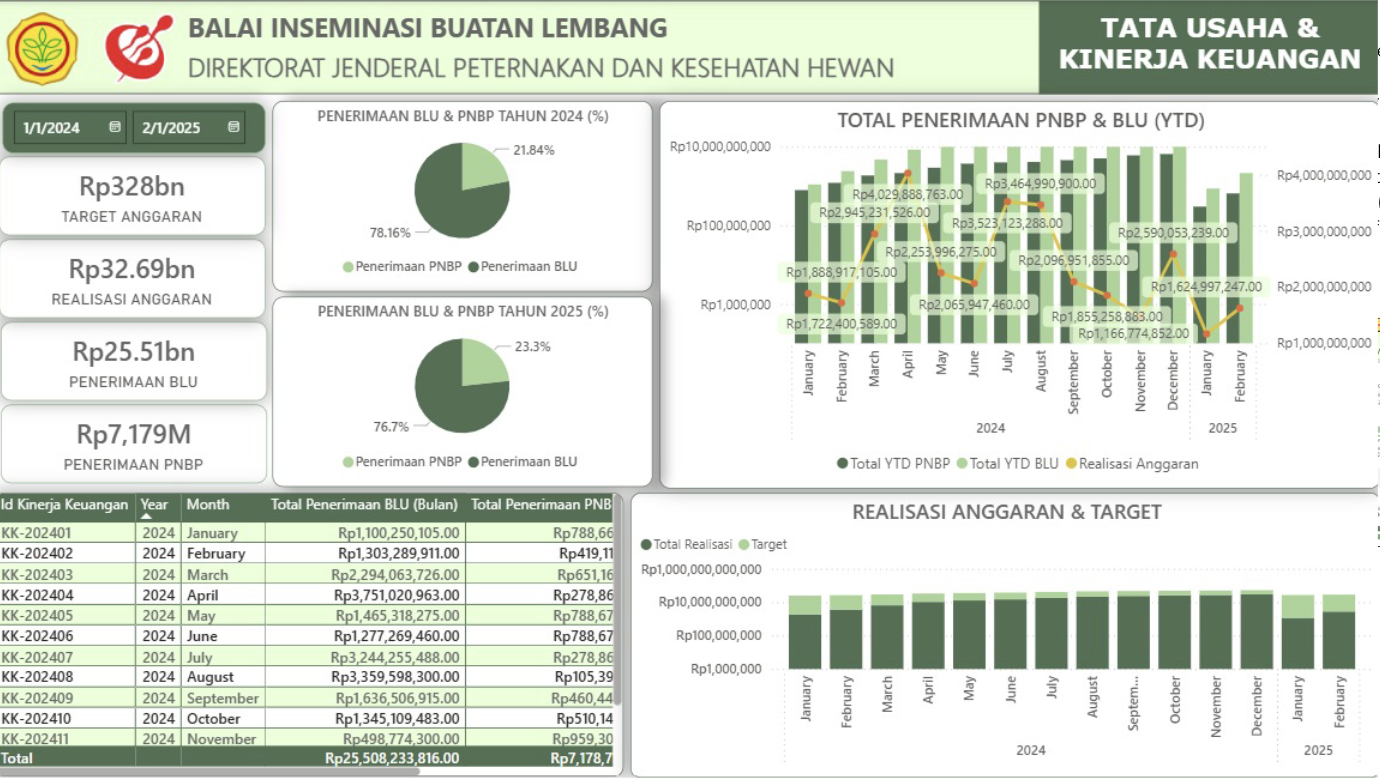

The dashboard page shown, as its layout file describes it:
{"tool":"powerbi","page":{"name":"Dashboard Tata Usaha","canvas":[1280,720],"ordinal":2},"visuals":[{"type":"shape","box":[1.7,0,1278.3,86.7],"z":0},{"type":"image","box":[86.1,0,92.8,86.1],"z":1000},{"type":"image","box":[0,0,86.1,86.1],"z":2000},{"type":"textbox","box":[961.7,0,315,86.7],"z":3000},{"type":"card","fields":{"Values":["Sum(fakta_kinerja_keuangan.Penerimaan PNBP)"]},"box":[6.6,372.7,245.2,72.9],"z":4000},{"type":"card","fields":{"Values":["Sum(fakta_kinerja_keuangan.Penerimaan BLU)"]},"box":[6.6,296.5,245.2,72.9],"z":5000},{"type":"card","fields":{"Values":["Sum(fakta_kinerja_keuangan.Realisasi Anggaran)"]},"box":[5,220.3,245.2,72.9],"z":6000},{"type":"tableEx","fields":{"Values":["fakta_kinerja_keuangan.Id Kinerja Keuangan","fakta_kinerja_keuangan.Tahun.Variation.Date Hierarchy.Year","fakta_kinerja_keuangan.Tahun.Variation.Date Hierarchy.Month","Sum(fakta_kinerja_keuangan.Penerimaan BLU)","Sum(fakta_kinerja_keuangan.Penerimaan PNBP)","Sum(fakta_kinerja_keuangan.Realisasi Anggaran)"]},"box":[0,453.5,580.2,262.7],"z":7000},{"type":"pieChart","title":"PENERIMAAN BLU &  PNBP TAHUN 2024 (%)","fields":{"Y":["Sum(fakta_kinerja_keuangan.Penerimaan PNBP)","Sum(fakta_kinerja_keuangan.Penerimaan BLU)"]},"box":[256,92,350,176],"z":8000},{"type":"lineStackedColumnComboChart","title":"REALISASI ANGGARAN & TARGET ","fields":{"Category":["fakta_kinerja_keuangan.Tahun.Variation.Date Hierarchy.Year","fakta_kinerja_keuangan.Tahun.Variation.Date Hierarchy.Month"],"Y":["fakta_kinerja_keuangan.Total Realisasi","Sum(fakta_kinerja_keuangan.Target)"]},"box":[586,454,692,264],"z":9000},{"type":"lineClusteredColumnComboChart","title":"TOTAL PENERIMAAN PNBP & BLU (YTD)","fields":{"Category":["fakta_kinerja_keuangan.Tahun.Variation.Date Hierarchy.Year","fakta_kinerja_keuangan.Tahun.Variation.Date Hierarchy.Month"],"Y":["fakta_kinerja_keuangan.Total YTD PNBP","fakta_kinerja_keuangan.Total YTD BLU"],"Y2":["fakta_kinerja_keuangan.Sum of Realisasi Anggaran running total in Tahun"]},"box":[612.3,92.6,665.2,357.2],"z":10000},{"type":"textbox","box":[179.5,7.6,480,35.9],"z":11000},{"type":"textbox","box":[178.9,44.7,816.6,43.1],"z":12000},{"type":"card","fields":{"Values":["Sum(fakta_kinerja_keuangan.Target)"]},"box":[5,144.1,245.2,72.9],"z":13000},{"type":"slicer","fields":{"Values":["fakta_kinerja_keuangan.Tahun"]},"box":[8.3,94.4,241.8,46.4],"z":14000},{"type":"pieChart","title":"PENERIMAAN BLU &  PNBP TAHUN 2025 (%)","fields":{"Y":["Sum(fakta_kinerja_keuangan.Penerimaan PNBP)","Sum(fakta_kinerja_keuangan.Penerimaan BLU)"]},"box":[256.2,272.5,350,175],"z":15000}]}

Visuals, with their boxes in screenshot pixels (x1, y1, x2, y2), scaled from the page's 1280x720 canvas onto the 1380x780 screenshot:
shape: bbox=(2, 0, 1379, 94)
image: bbox=(93, 0, 193, 93)
image: bbox=(0, 0, 93, 93)
textbox: bbox=(1037, 0, 1376, 94)
card - Sum(fakta_kinerja_keuangan.Penerimaan PNBP): bbox=(7, 404, 271, 483)
card - Sum(fakta_kinerja_keuangan.Penerimaan BLU): bbox=(7, 321, 271, 400)
card - Sum(fakta_kinerja_keuangan.Realisasi Anggaran): bbox=(5, 239, 270, 318)
tableEx - fakta_kinerja_keuangan.Id Kinerja Keuangan x fakta_kinerja_keuangan.Tahun.Variation.Date Hierarchy.Year: bbox=(0, 491, 626, 776)
"PENERIMAAN BLU &  PNBP TAHUN 2024 (%)" pieChart: bbox=(276, 100, 653, 290)
"REALISASI ANGGARAN & TARGET " lineStackedColumnComboChart: bbox=(632, 492, 1378, 778)
"TOTAL PENERIMAAN PNBP & BLU (YTD)" lineClusteredColumnComboChart: bbox=(660, 100, 1377, 487)
textbox: bbox=(194, 8, 711, 47)
textbox: bbox=(193, 48, 1073, 95)
card - Sum(fakta_kinerja_keuangan.Target): bbox=(5, 156, 270, 235)
slicer - fakta_kinerja_keuangan.Tahun: bbox=(9, 102, 270, 153)
"PENERIMAAN BLU &  PNBP TAHUN 2025 (%)" pieChart: bbox=(276, 295, 654, 485)
